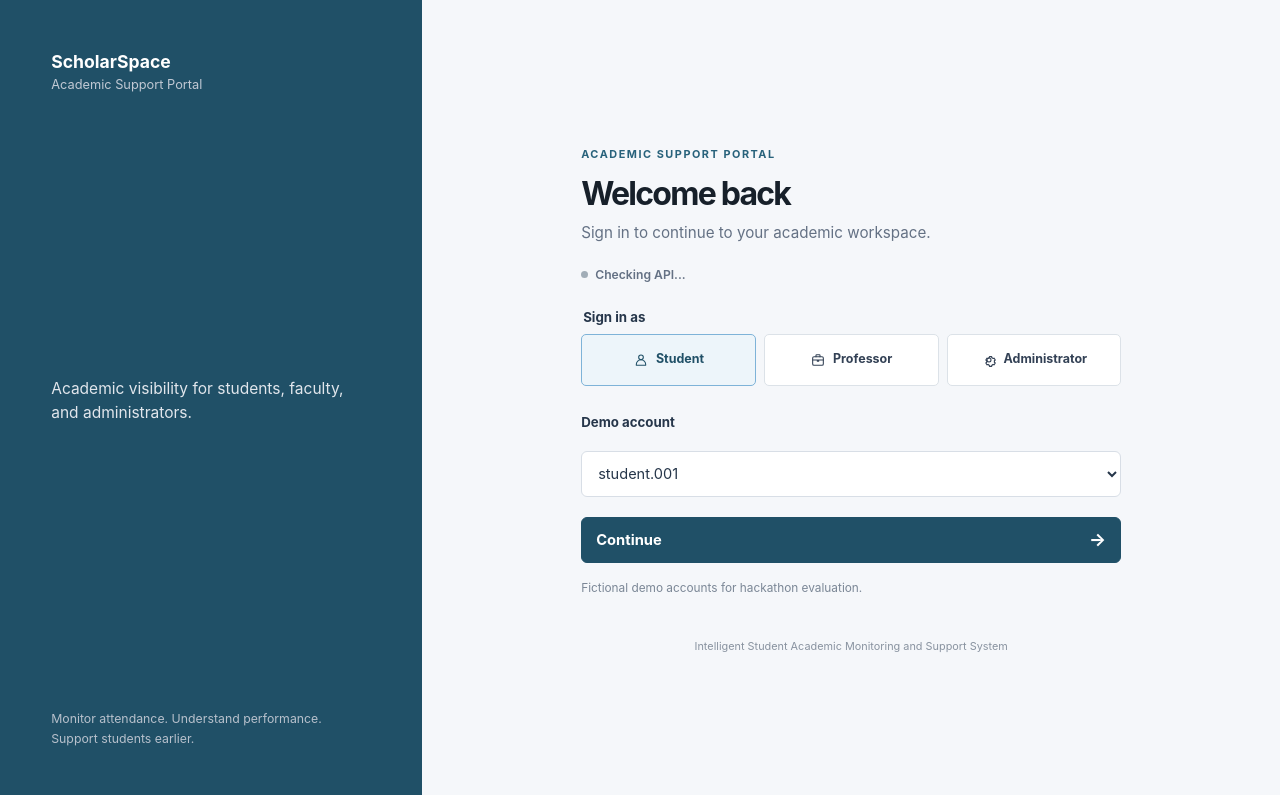
role-aware demo login › selects a professor account and lets the server assign the workspace role
Click the button "Professor". click: x=851, y=360
box: [764,334,938,386]
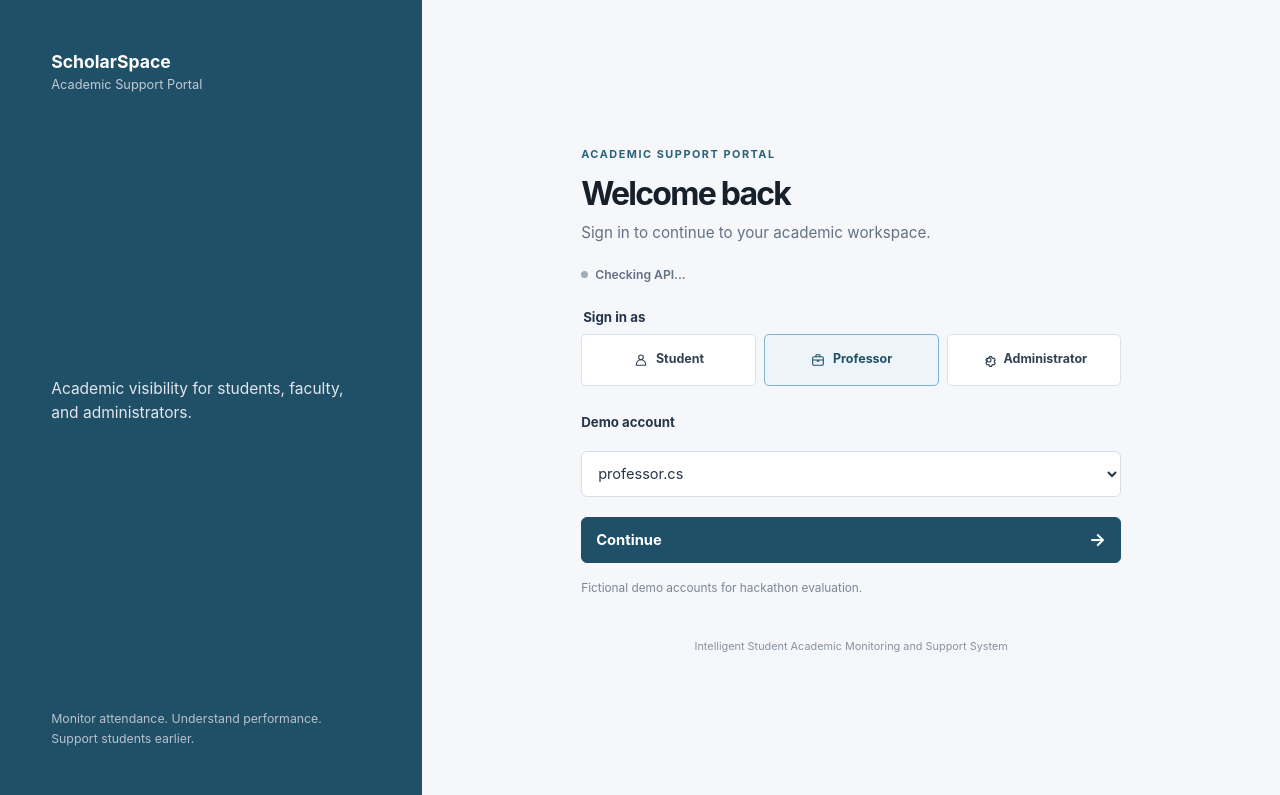
Now the dropdown labelled "Demo account" shows "professor.cs", box [581,451,1121,497]
Click the button "Continue →". click: x=629, y=540
box: [581,517,1121,563]
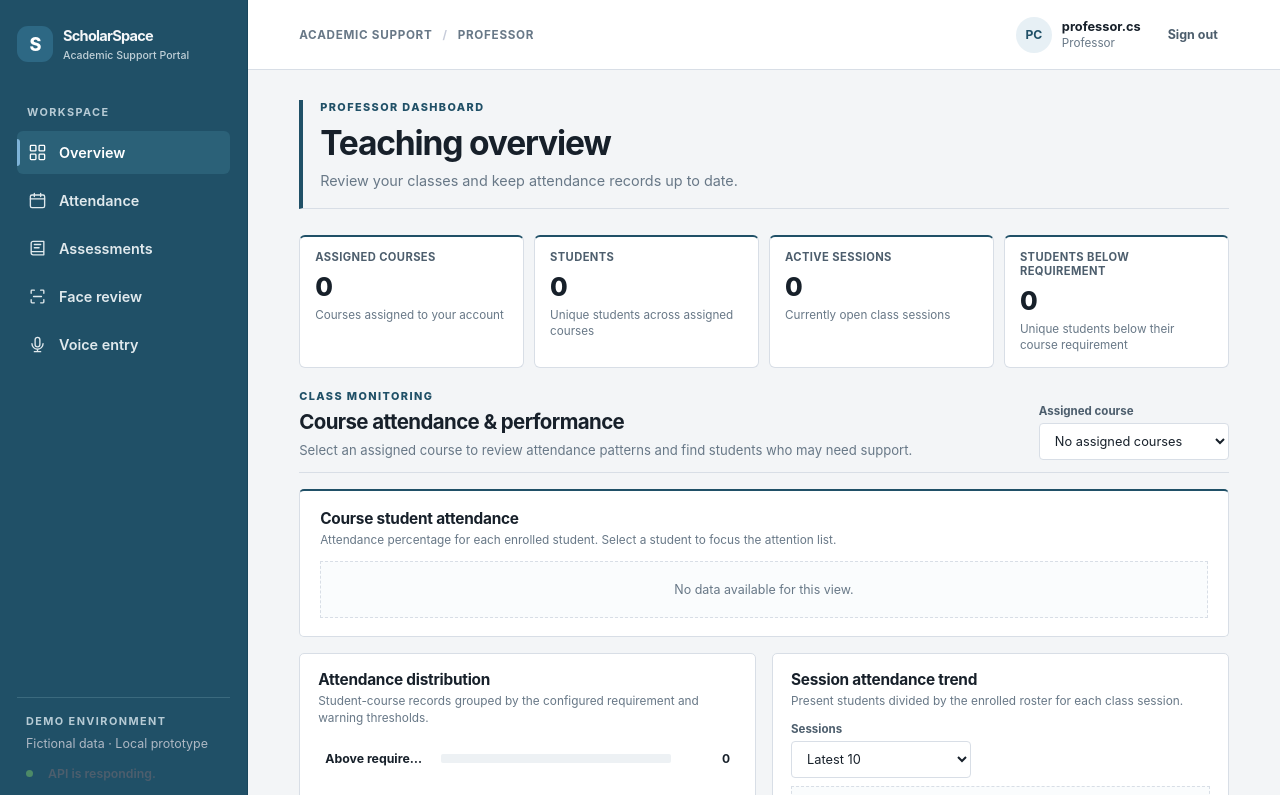
Now the heading "Teaching overview" is shown, box [320,122,611,163]
